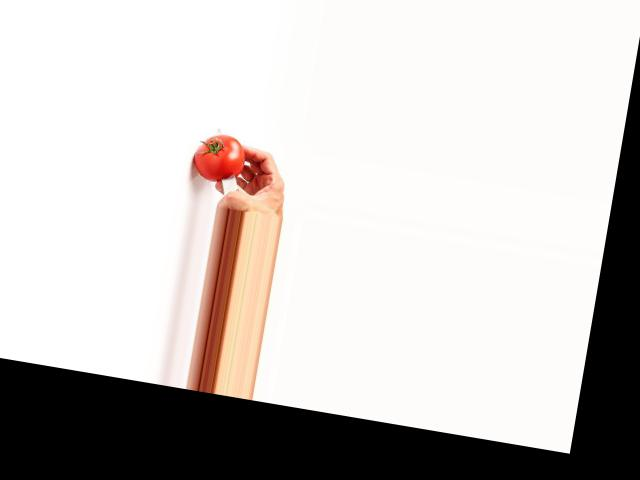tomato: (191, 131, 248, 185)
